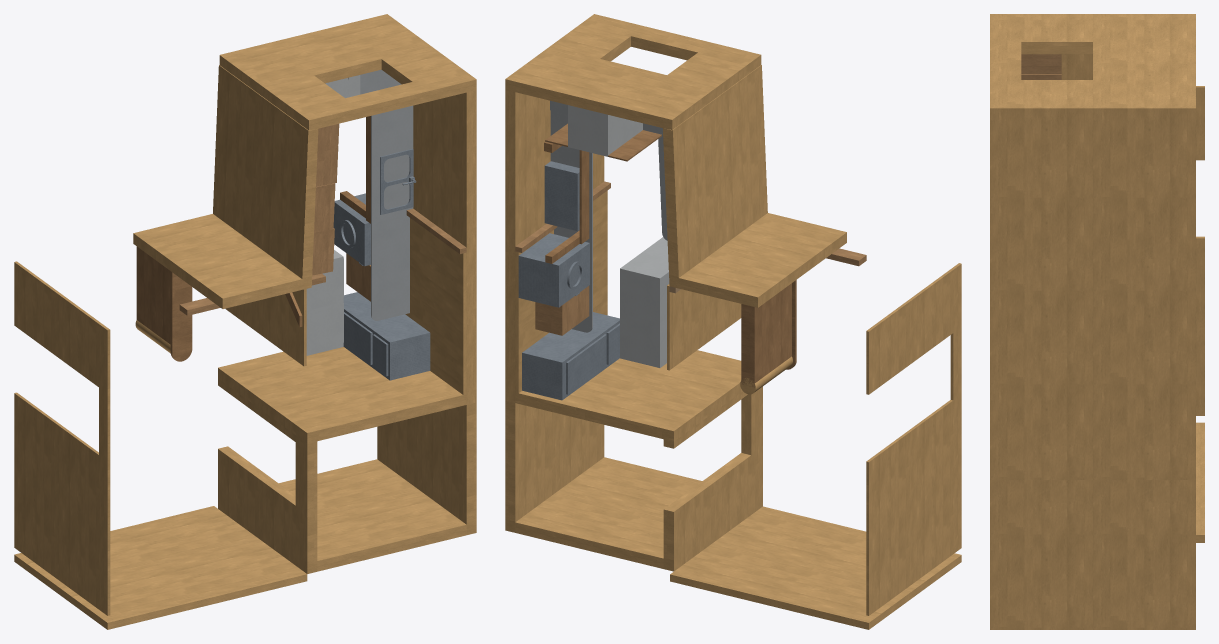
File: cocina-mwrtyb5r.glb
3 renders of one model, left to right at view 1: azimuth 30°, elevation 25°; view 2: azimuth 150°, elevation 25°; view 3: azimuth 270°, elevation 25°, orthographic. The views are drawn at different scales.
Parts seen in each view (by area): view 1: Body55, pared_(3), Body57, pared_(8), pared, pared_(1), pared_(5), pared_(7), pared_(2), pared_(6), nevera_gas, piedra (+14 smaller); view 2: Body55, Body57, pared_(8), pared, pared_(5), pared_(3), pared_(1), pared_(2), pared_(7), pared_(6), nevera_gas, Body34 (+12 smaller); view 3: pared_(3), pared_(6), pared_(8), Body55, Body57, Body45, pared.
Part boxes in pixels (left/top/right/bottom): Body55: left=14, top=261, right=110, bottom=615; pared_(3): left=405, top=90, right=476, bottom=404; Body57: left=14, top=506, right=307, bottom=629; pared_(8): left=219, top=14, right=476, bottom=130; pared: left=213, top=66, right=318, bottom=279; pared_(1): left=218, top=347, right=466, bottom=443; pared_(5): left=279, top=459, right=466, bottom=571; pared_(7): left=218, top=378, right=317, bottom=573; pared_(2): left=133, top=214, right=311, bottom=308; pared_(6): left=377, top=402, right=476, bottom=534; nevera_gas: left=343, top=292, right=430, bottom=380; piedra: left=371, top=215, right=409, bottom=320; Body55: left=866, top=263, right=961, bottom=615; Body57: left=670, top=506, right=961, bottom=629; pared_(8): left=505, top=14, right=761, bottom=130; pared: left=663, top=65, right=767, bottom=277; pared_(5): left=515, top=457, right=702, bottom=568; pared_(3): left=505, top=90, right=607, bottom=402; pared_(1): left=515, top=350, right=742, bottom=441; pared_(2): left=669, top=213, right=846, bottom=307; pared_(7): left=663, top=386, right=762, bottom=571; pared_(6): left=505, top=400, right=604, bottom=532; nevera_gas: left=522, top=312, right=619, bottom=400; Body34: left=518, top=233, right=589, bottom=307; pared_(3): left=990, top=120, right=1195, bottom=479; pared_(6): left=990, top=480, right=1195, bottom=629; pared_(8): left=990, top=14, right=1195, bottom=120; Body55: left=1196, top=86, right=1204, bottom=415; Body57: left=1196, top=422, right=1204, bottom=542; Body45: left=1021, top=54, right=1061, bottom=79; pared: left=1061, top=54, right=1092, bottom=79.
Bounding box in the file's own units: 5.48 × 6.53 × 2.4.
Materials: 10 (9 with a texture image).
